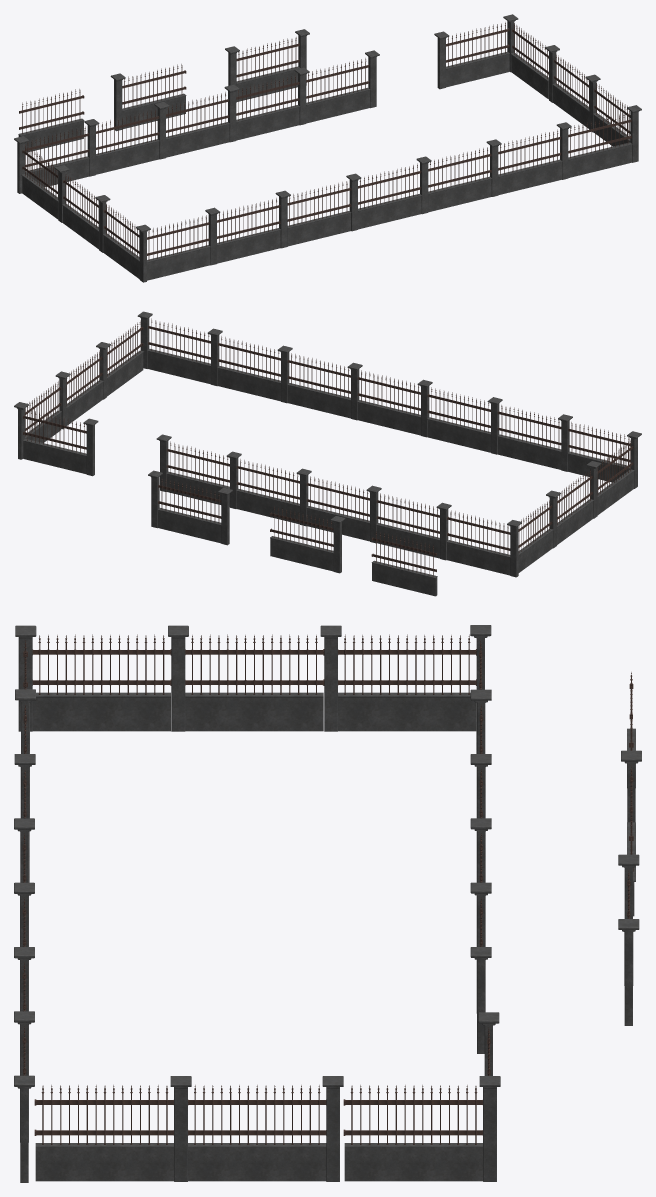
3 renders of one model, top to bottom at view 1: azimuth 30°, elevation 25°; view 2: azimuth 150°, elevation 25°; view 3: azimuth 270°, elevation 25°, orthographic. The views are drawn at different scales.
Parts seen in each view (by area): view 1: fance_3_4, fance_2_3, 01, fance_4_2, fance_9, fance_1_3, fance_2_2, fance_3_2, fance_2_4, fance_3_3, fance_6, fance_1_4 (+10 smaller); view 2: 01, fance_3_4, fance_2_3, fance_1, fance_4_2, fance_9, 03, fance_2_4, fance_1_3, fance_3_3, fance_1_4, fance_3_2 (+10 smaller); view 3: fance_4, fance_3, fance_1_2, fance, fance_2, fance_5, 01, fance_3_4, fance_2_3, 03, fance_3_2, fance_1_4 (+7 smaller).
Part boxes in pixels (<box>): fance_3_4: <box>556,105,641,179</box>; fance_2_3: <box>294,50,379,125</box>; 01: <box>225,29,309,102</box>; fance_4_2: <box>434,22,509,89</box>; fance_9: <box>275,181,351,248</box>; fance_1_3: <box>486,129,562,196</box>; fance_2_2: <box>154,92,229,159</box>; fance_3_2: <box>84,109,159,176</box>; fance_2_4: <box>416,147,492,214</box>; fance_3_3: <box>346,163,421,231</box>; fance_6: <box>147,207,220,280</box>; fance_1_4: <box>224,75,299,142</box>; 01: <box>148,470,232,545</box>; fance_3_4: <box>137,311,222,386</box>; fance_2_3: <box>156,434,241,508</box>; fance_1: <box>446,510,521,577</box>; fance_4_2: <box>23,409,98,476</box>; fance_9: <box>427,387,502,454</box>; 03: <box>270,506,345,573</box>; fance_2_4: <box>287,353,362,420</box>; fance_1_3: <box>217,336,292,403</box>; fance_3_3: <box>357,370,432,437</box>; fance_1_4: <box>236,459,311,526</box>; fance_3_2: <box>376,493,451,560</box>; fance_4: <box>168,625,324,731</box>; fance_3: <box>320,625,476,731</box>; fance_1_2: <box>34,1076,191,1181</box>; fance: <box>343,1076,500,1181</box>; fance_2: <box>188,1076,343,1181</box>; fance_5: <box>15,625,171,731</box>; 01: <box>618,854,639,1025</box>; fance_3_4: <box>14,1011,34,1182</box>; fance_2_3: <box>470,882,491,1053</box>; 03: <box>621,750,641,916</box>; fance_3_2: <box>470,689,491,817</box>; fance_1_4: <box>470,818,491,946</box>.
Bounding box in the file's own units: 3932 × 399 × 2269.
Materials: 2 (2 with a texture image).
